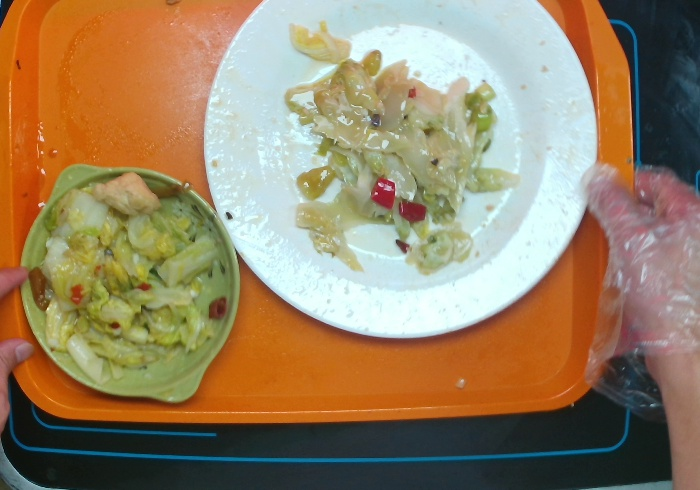NLDX-Da_Yuan_Pan: (202, 1, 598, 340)
NLDX-Lv_Hua_Shuang_Er_Die: (15, 162, 239, 406)
